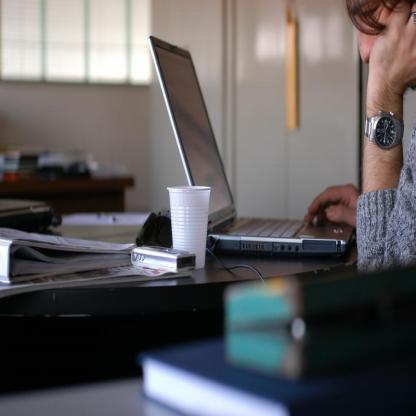board: (147, 32, 354, 258)
